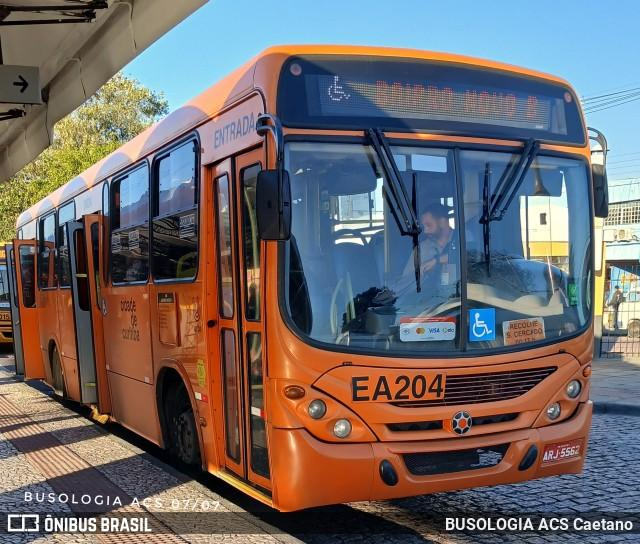BAIRRO NOVO: (371, 74, 525, 125)
